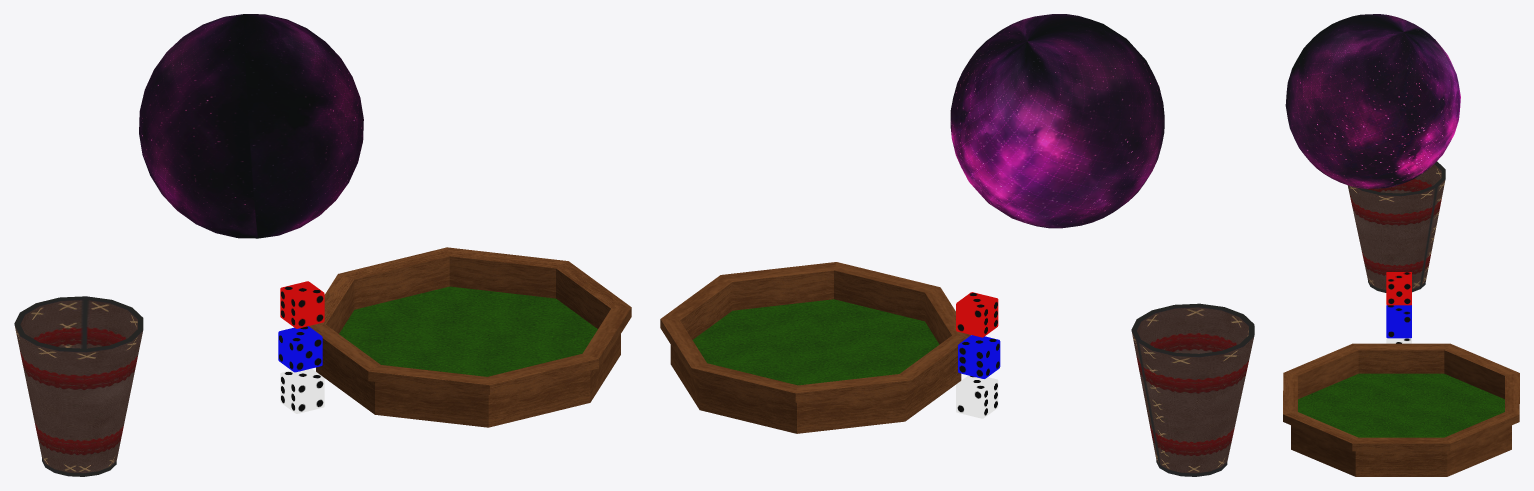
The model's file is LiarsDice.glb.
The picture shows the model from 3 angles, left to right: view 1: azimuth 30°, elevation 25°; view 2: azimuth 150°, elevation 25°; view 3: azimuth 270°, elevation 25°; orthographic projection. The views are drawn at different scales.
Parts seen in each view (by area): view 1: Cylinder_0, Sphere_1; view 2: Cylinder_0, Sphere_1; view 3: Cylinder_0, Sphere_1.
Boxes of the visible parts, bbox=[...] form: Cylinder_0: bbox=[14, 247, 631, 476]; Sphere_1: bbox=[139, 14, 363, 238]; Cylinder_0: bbox=[660, 262, 1254, 476]; Sphere_1: bbox=[950, 14, 1164, 228]; Cylinder_0: bbox=[1283, 161, 1519, 476]; Sphere_1: bbox=[1285, 14, 1460, 188].
Size of the model in its own units: 100 by 67.67 by 45.47.
2 materials, 2 textured.
